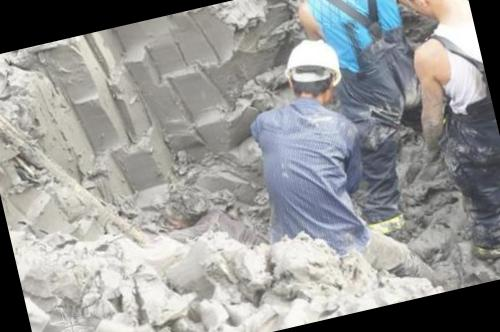no_helmet: (384, 0, 470, 28)
